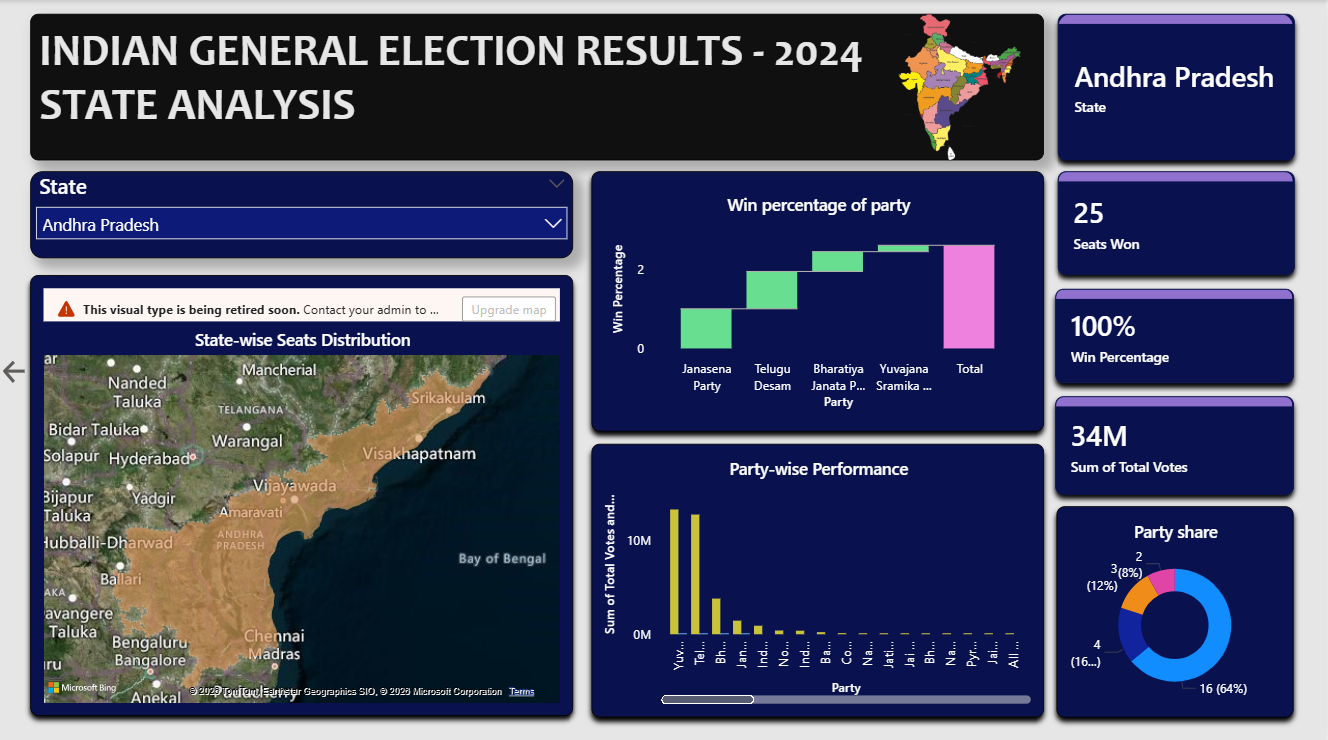

Layout of this report page (visuals, bound fields, positions):
{"tool":"powerbi","page":{"name":"State analysis","canvas":[1280,720],"ordinal":3},"visuals":[{"type":"slicer","title":"State","fields":{"Values":["GE_2024_Results.State"]},"box":[30,165.7,524.3,84.3],"z":0},{"type":"cardVisual","title":"Win Percentage","fields":{"Data":["GE_2024_Results.Win Percentage"]},"box":[1020,278.8,230,91.2],"z":1000},{"type":"filledMap","title":"State-wise Seats Distribution","fields":{"Category":["GE_2024_Results.State"]},"box":[30,265.7,524.3,425.7],"z":2000},{"type":"waterfallChart","title":"Win percentage of party","fields":{"Category":["GE_2024_Results.Party"],"Y":["GE_2024_Results.Win Percentage"]},"box":[571.4,165.7,437.1,251.4],"z":3000},{"type":"clusteredColumnChart","title":"Party-wise Performance ","fields":{"Category":["GE_2024_Results.Party"],"Y":["Sum(GE_2024_Results.Total Votes)","GE_2024_Results.Seats Won"]},"box":[571.4,428.6,437.1,264.3],"z":4000},{"type":"cardVisual","title":"Win Percentage","fields":{"Data":["Sum(GE_2024_Results.Total Votes)"]},"box":[1020,382.5,230,95],"z":5000},{"type":"cardVisual","title":"Win Percentage","fields":{"Data":["GE_2024_Results.Seats Won"]},"box":[1021.4,165.7,228.6,100],"z":6000},{"type":"textbox","box":[30,12.9,978.6,141.4],"z":7000},{"type":"image","box":[844.3,12.9,164.3,141.4],"z":8000},{"type":"cardVisual","title":"Win Percentage","fields":{"Data":["Min(GE_2024_Results.State)"]},"box":[1021.4,12.9,228.6,141.4],"z":9000},{"type":"donutChart","title":"Party share","fields":{"Y":["GE_2024_Results.Seats Won"],"Category":["GE_2024_Results.Party"]},"box":[1021.2,488.8,228.8,203.8],"z":10000},{"type":"actionButton","box":[0,339,30.2,39.8],"z":11000}]}

Visuals, with their boxes in screenshot pixels (x1, y1, x2, y2), scaled from the page's 1280x720 canvas onto the 1328x740 screenshot:
"State" slicer: region(31, 170, 575, 257)
"Win Percentage" cardVisual: region(1058, 287, 1297, 380)
"State-wise Seats Distribution" filledMap: region(31, 273, 575, 711)
"Win percentage of party" waterfallChart: region(593, 170, 1046, 429)
"Party-wise Performance " clusteredColumnChart: region(593, 441, 1046, 712)
"Win Percentage" cardVisual: region(1058, 393, 1297, 491)
"Win Percentage" cardVisual: region(1060, 170, 1297, 273)
textbox: region(31, 13, 1046, 159)
image: region(876, 13, 1046, 159)
"Win Percentage" cardVisual: region(1060, 13, 1297, 159)
"Party share" donutChart: region(1059, 502, 1297, 712)
actionButton: region(0, 348, 31, 389)
